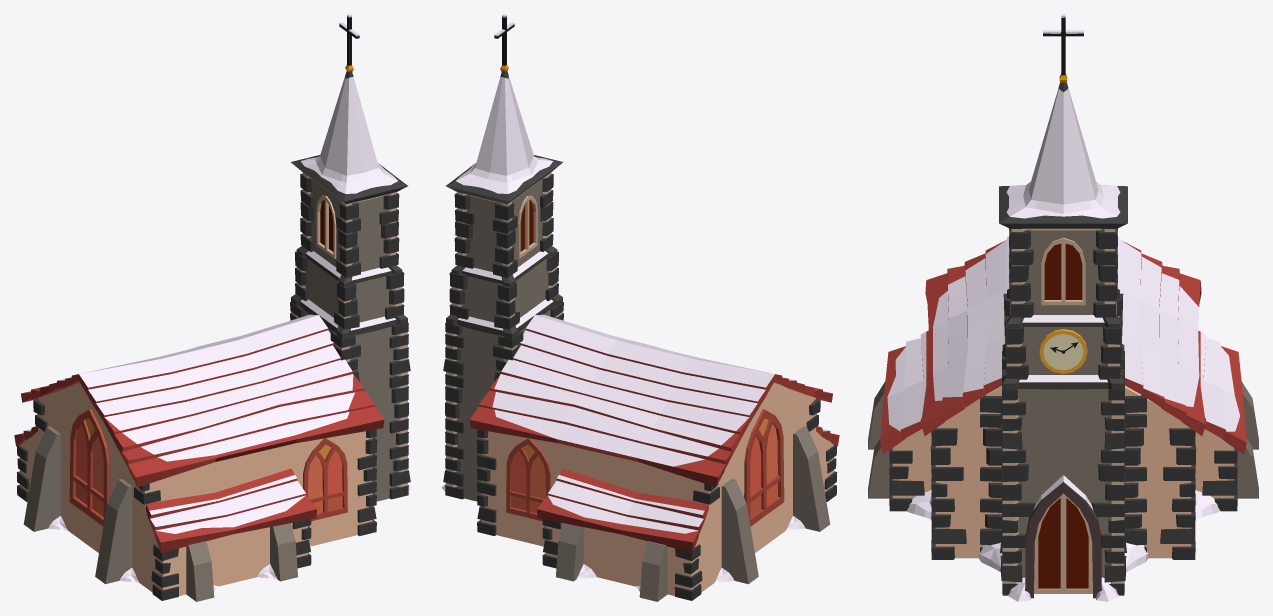
Rendered from winter_castle_church.glb.
The picture shows the model from 3 angles, left to right: view 1: azimuth 30°, elevation 25°; view 2: azimuth 150°, elevation 25°; view 3: azimuth 270°, elevation 25°; orthographic projection. The views are drawn at different scales.
Visible parts, largest first — view 1: Church_Medieval_0; view 2: Church_Medieval_0; view 3: Church_Medieval_0.
Part boxes in pixels (left/top/right/bottom): Church_Medieval_0: left=14, top=14, right=412, bottom=601; Church_Medieval_0: left=441, top=14, right=839, bottom=601; Church_Medieval_0: left=868, top=14, right=1258, bottom=601.
Size of the model in its own units: 7.66 by 10.45 by 6.59.
Materials: 1 (1 with a texture image).
